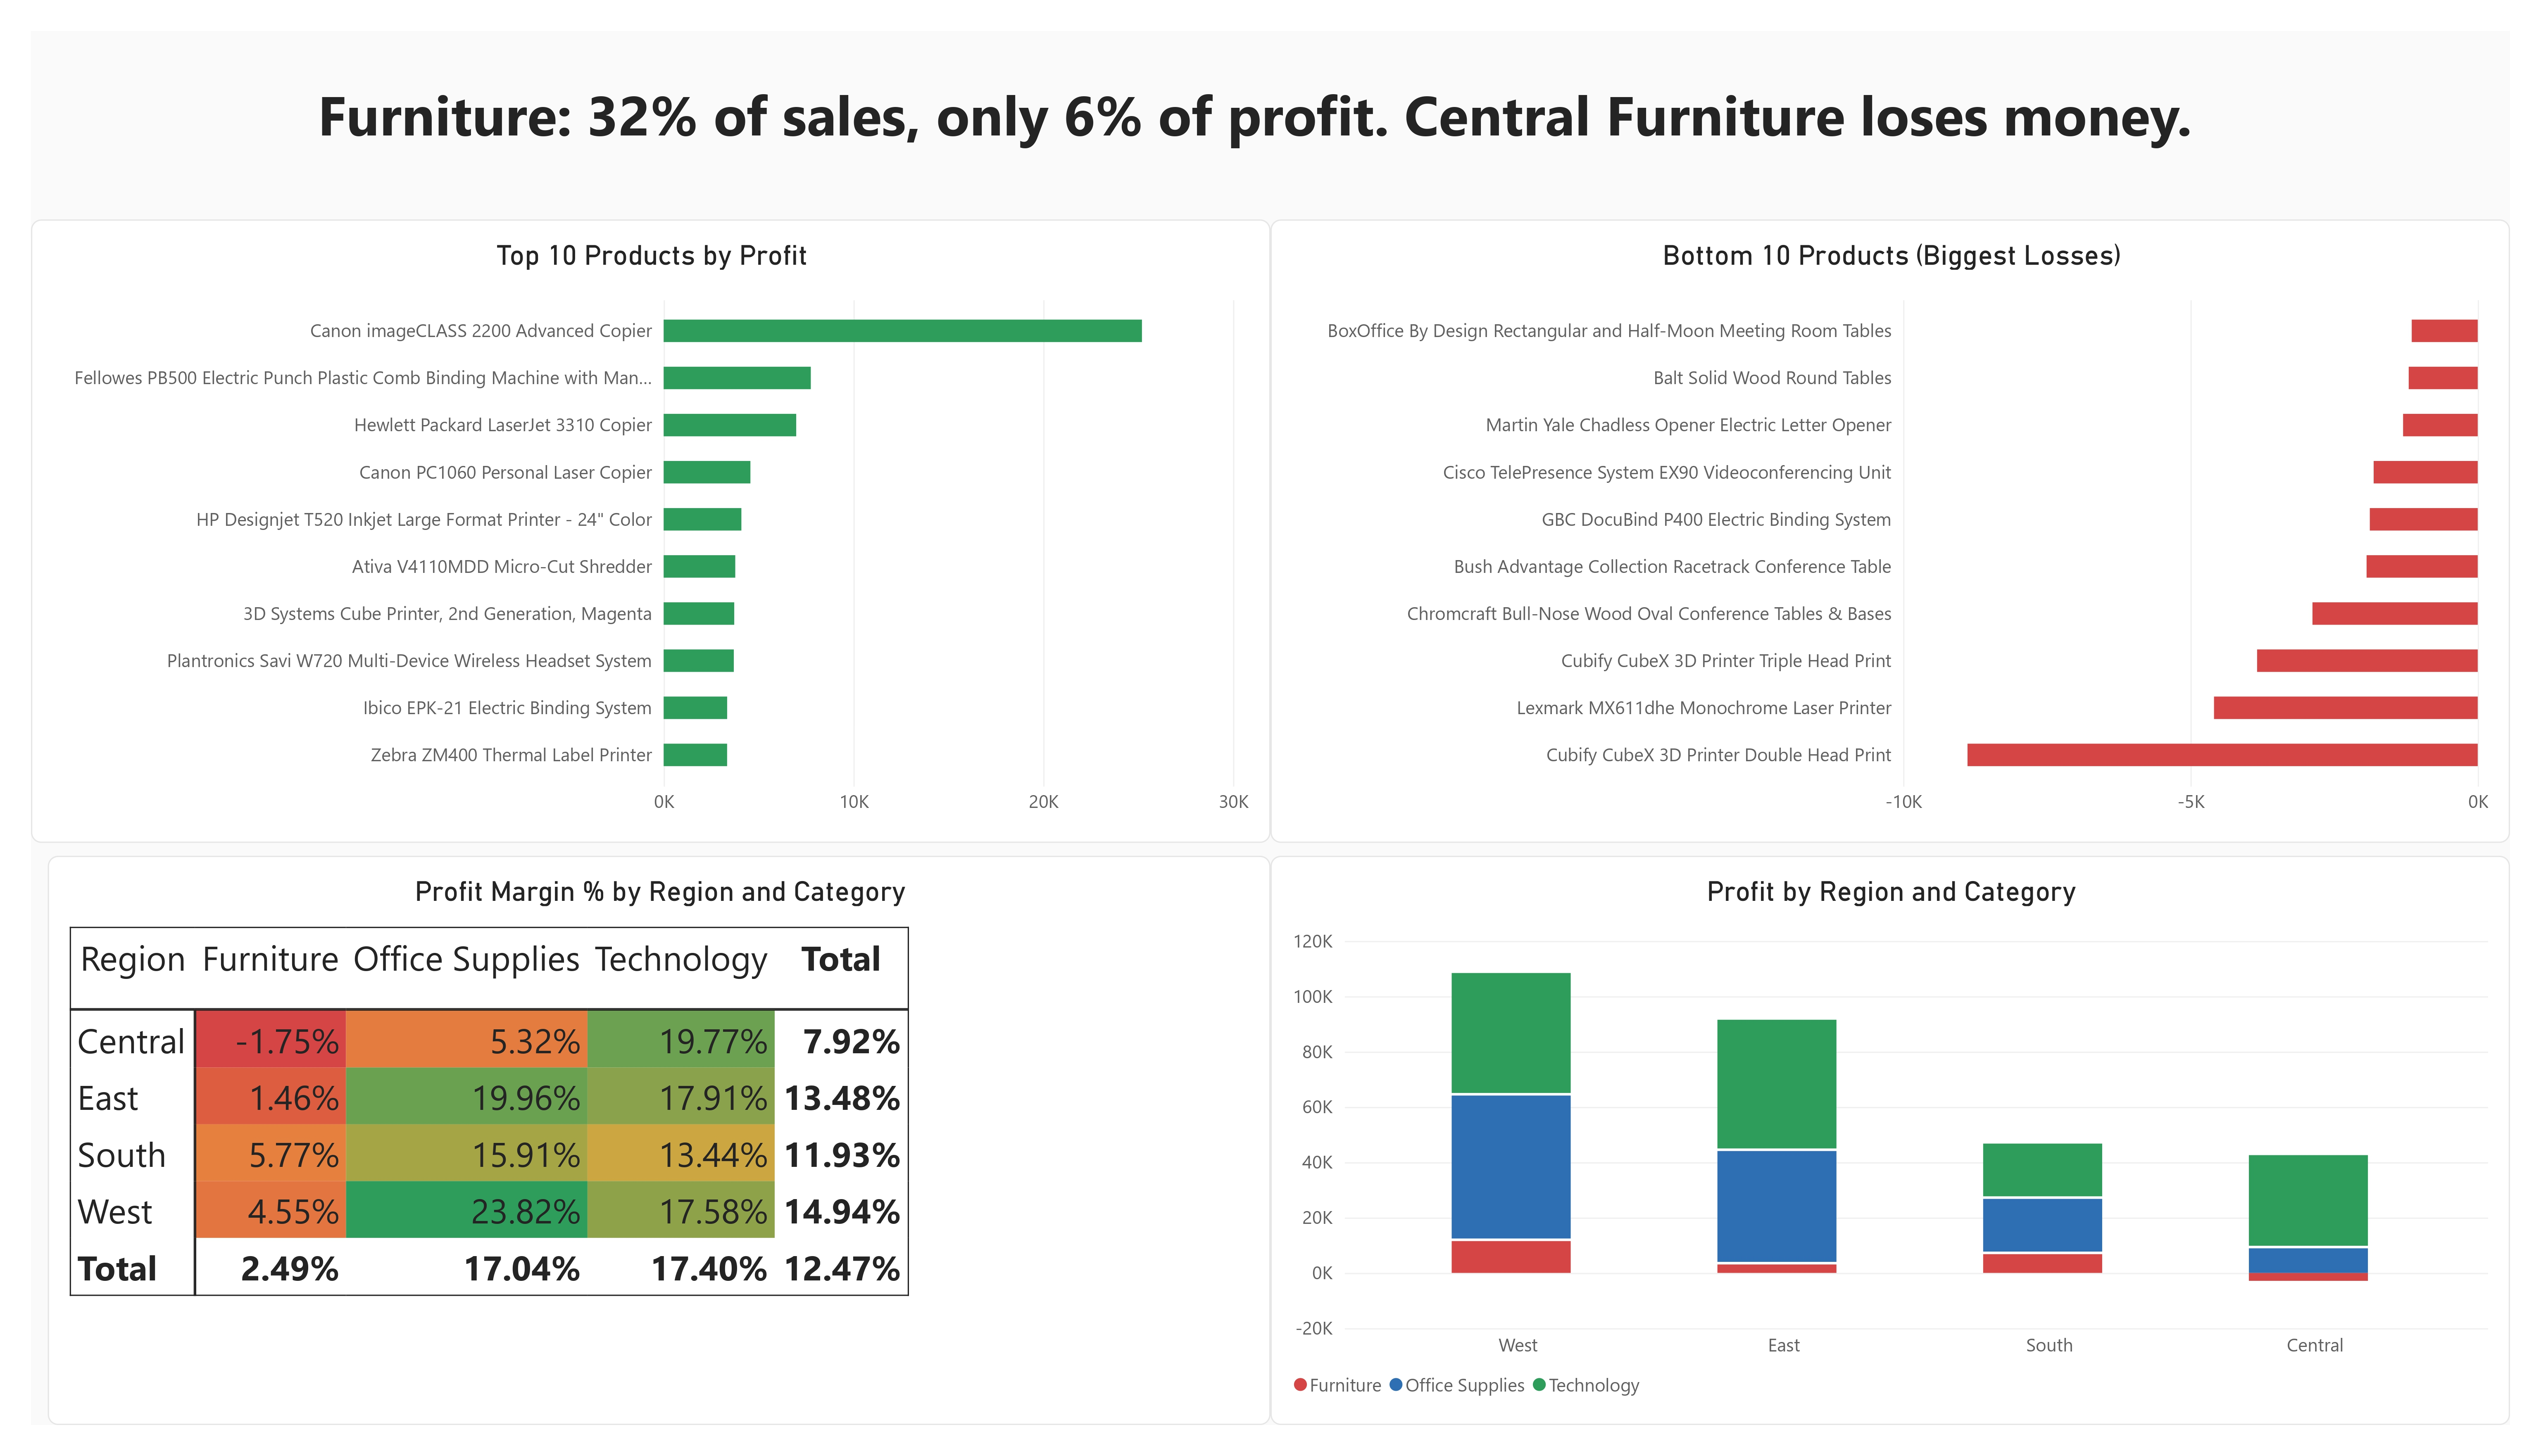

The page's visual inventory and layout, read from the dashboard file:
{"tool":"powerbi","page":{"name":"Products & Regions","canvas":[1920,1080],"ordinal":1},"visuals":[{"type":"barChart","title":"Top 10 Products by Profit","fields":{"Category":["superstore superstore.product_name"],"Y":["superstore superstore.Total Profit"]},"box":[0,145.9,960,482.9],"z":0},{"type":"barChart","title":"Bottom 10 Products (Biggest Losses)","fields":{"Category":["superstore superstore.product_name"],"Y":["superstore superstore.Total Profit"]},"box":[960,145.9,960,482.9],"z":1000},{"type":"pivotTable","title":"Profit Margin % by Region and Category","fields":{"Columns":["superstore superstore.category"],"Rows":["superstore superstore.region"],"Values":["superstore superstore.Margin %"]},"box":[13.1,639,946.9,440.6],"z":2000},{"type":"columnChart","title":"Profit by Region and Category","fields":{"Category":["superstore superstore.region"],"Series":["superstore superstore.category"],"Y":["superstore superstore.Total Profit"]},"box":[960,639,960,441],"z":3000},{"type":"textbox","box":[221.8,35,1666.1,65.7],"z":4000}]}

Visuals, with their boxes on the page's 1920x1080 design canvas (x1, y1, x2, y2). These are canvas units, not pixel positions in the 2541x1456 screenshot, which may show the page scaled, cropped or inside an application window:
"Top 10 Products by Profit" barChart: bbox=[0, 146, 960, 629]
"Bottom 10 Products (Biggest Losses)" barChart: bbox=[960, 146, 1920, 629]
"Profit Margin % by Region and Category" pivotTable: bbox=[13, 639, 960, 1080]
"Profit by Region and Category" columnChart: bbox=[960, 639, 1920, 1080]
textbox: bbox=[222, 35, 1888, 101]
